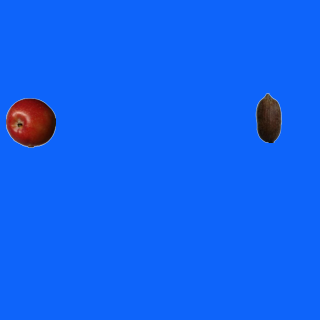Apple Braeburn: (5, 97, 55, 147)
Nut Pecan: (243, 92, 293, 142)
